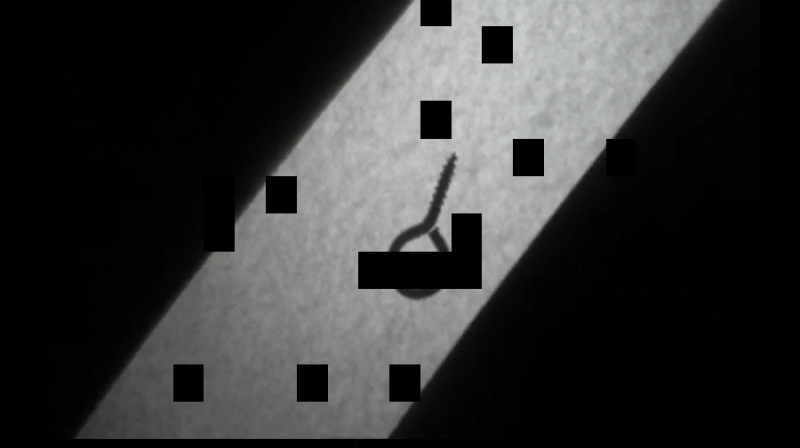O001: (382, 149, 460, 302)
